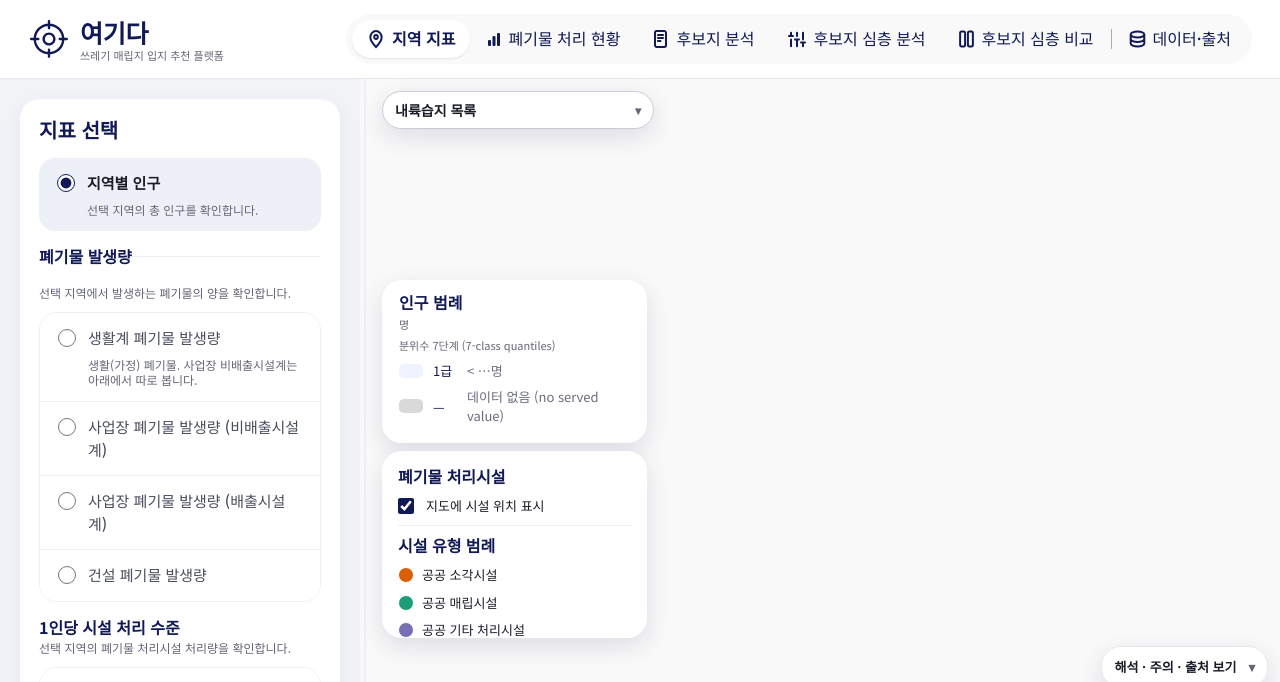
Test: mode orientation stays supporting text, not a second nav row › is absent on 지역 지표 and present, as supporting text, on the others
The image size is (1280, 682).
Click the button with test id "mode-suitability".
click(856, 39)  # box 772,20 -> 941,58
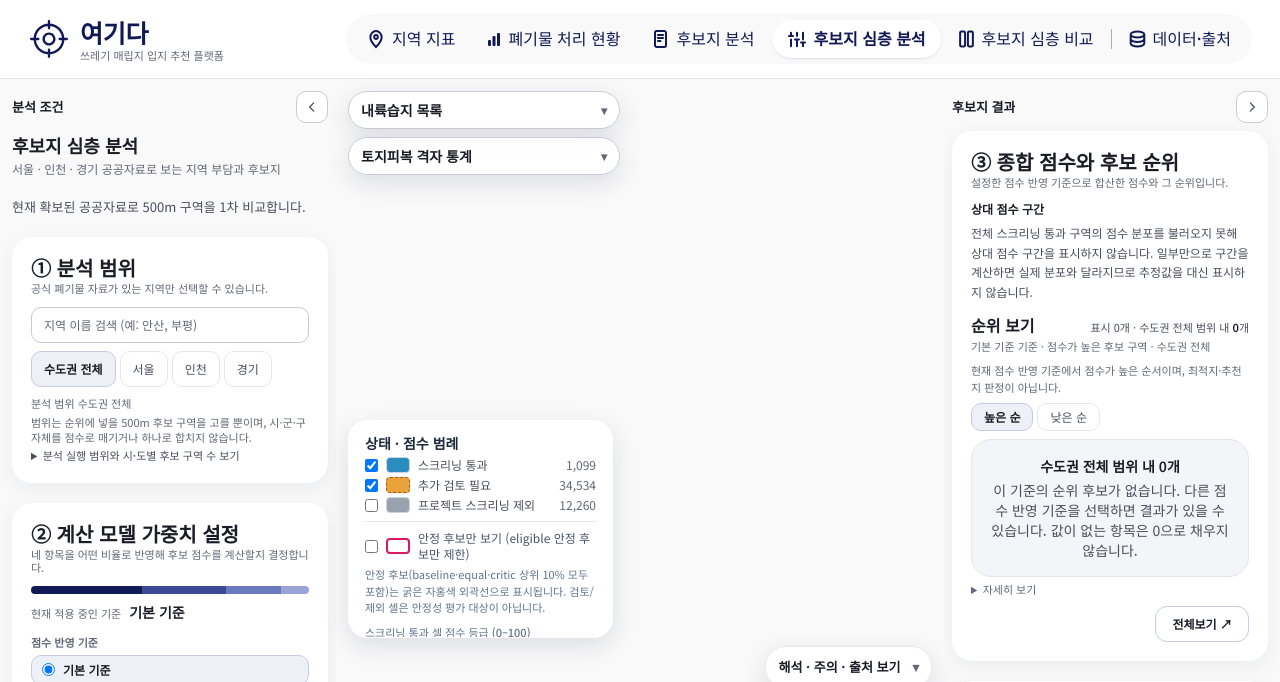
Expected: the text with test id "mode-orientation" reads "현재 확보된 공공자료로 500m 구역을 1차 비교합니다.", 12,197 -> 328,216
